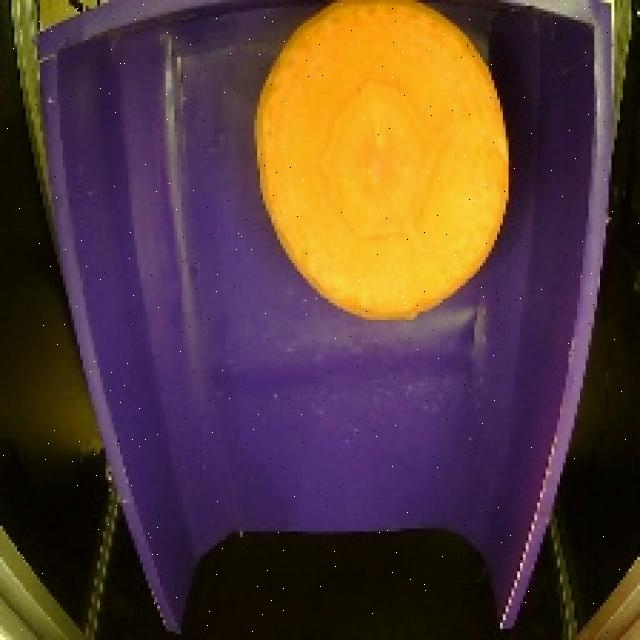carrots: (240, 0, 523, 332)
